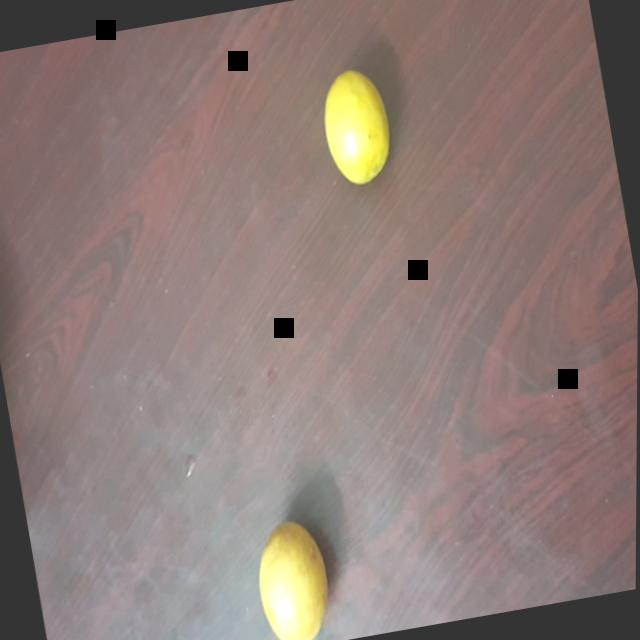lemon: (239, 510, 345, 640), (308, 53, 407, 191)
